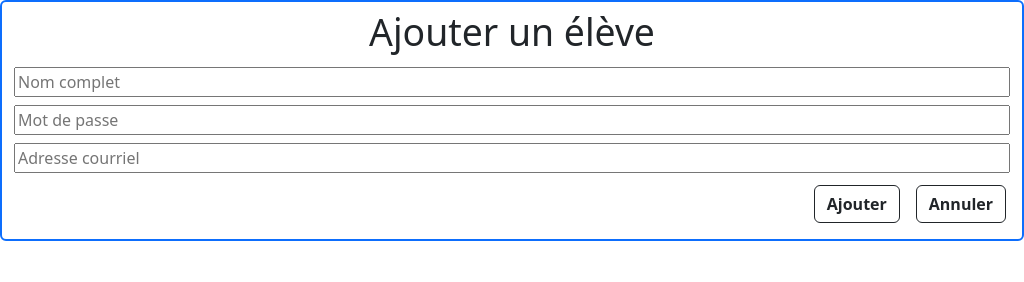
Test: AddStudentForm.vue › Sending a form with no password shows empty password error message
The width and height of the screenshot is (1024, 282).
In the field named "name": (512, 82) x1=14 y1=67 x2=1010 y2=97, type "Nom valide"
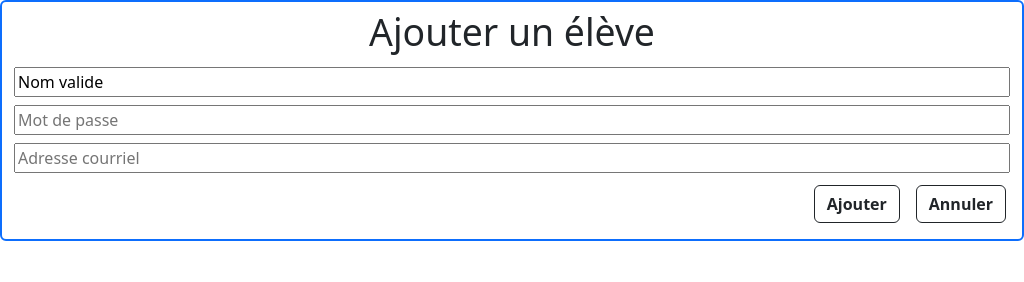
In the field named "email": (512, 158) x1=14 y1=143 x2=1010 y2=173, type "email@valide.com"
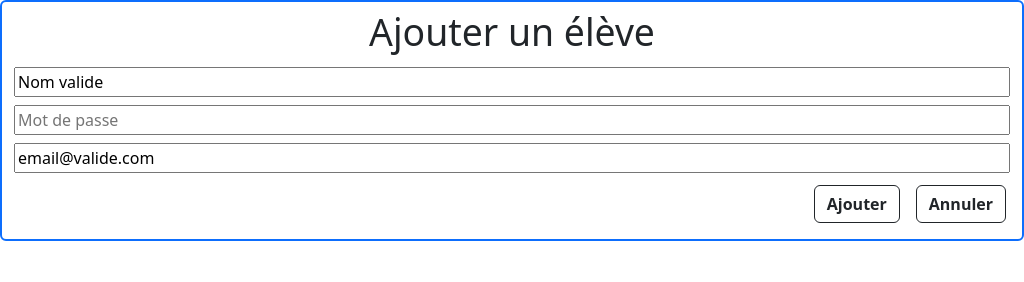
Click the button named "addButton": click(857, 204) x1=814 y1=185 x2=900 y2=223
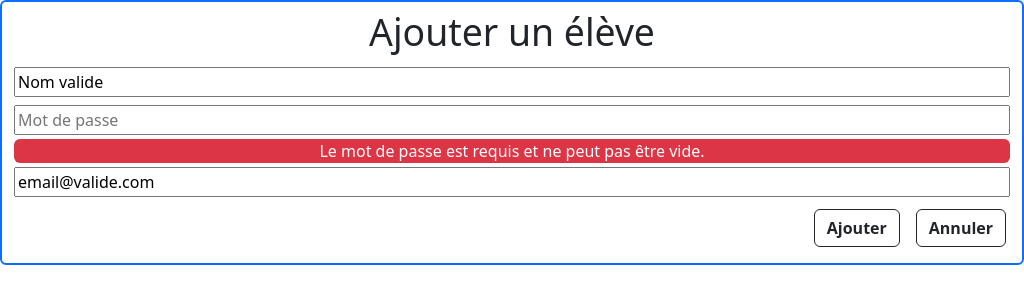
Expected: the text named "passwordError" reads "Le mot de passe est requis et ne peut pas être vide.", x1=319 y1=140 x2=705 y2=162
